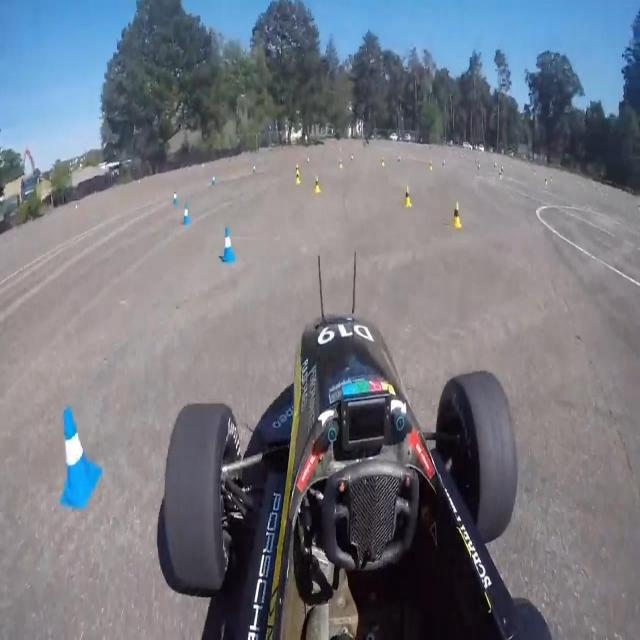blue_cone: (62, 390, 96, 513), (219, 224, 235, 264), (181, 204, 190, 226), (171, 190, 178, 207), (211, 175, 216, 188)
yellow_cone: (450, 196, 463, 230), (403, 183, 413, 209), (294, 170, 301, 186), (315, 176, 321, 193), (294, 162, 300, 178), (338, 158, 343, 171), (429, 160, 433, 172), (380, 156, 384, 168)
